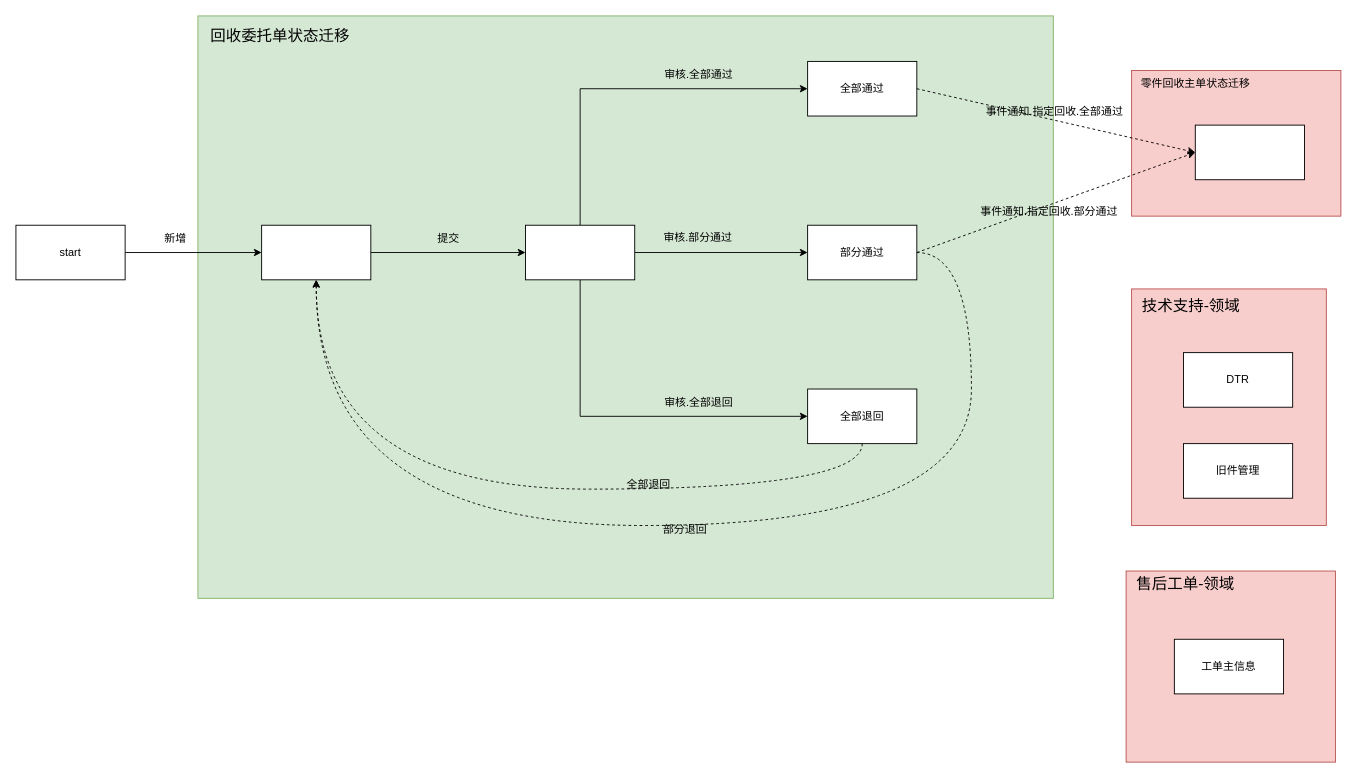
This 1357x778 diagram has some shape labels left out. The shapes that lost their labels are listed below. From the top down, each one's centre as x and y in pixels, then its label:
(x=1249, y=152): 待下发
(x=316, y=252): 待提交
(x=580, y=252): 待EDER审核
